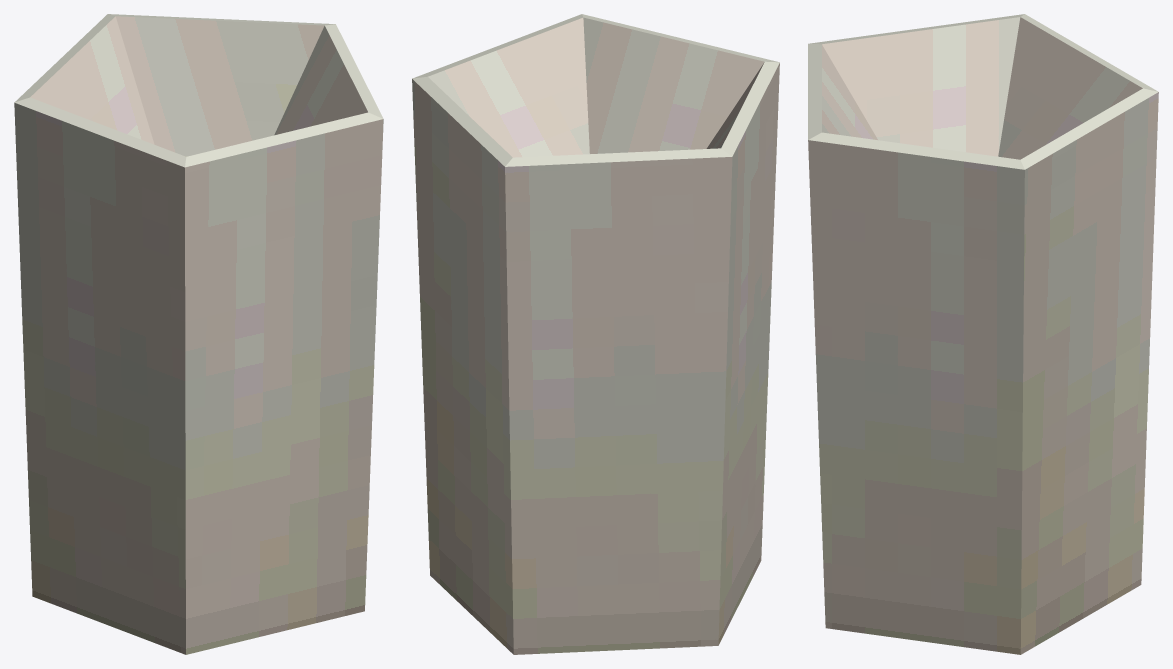
File: glass.fbx
The picture shows the model from 3 angles, left to right: view 1: azimuth 30°, elevation 25°; view 2: azimuth 150°, elevation 25°; view 3: azimuth 270°, elevation 25°; orthographic projection.
Parts seen in each view (by area): view 1: glass; view 2: glass; view 3: glass.
Part boxes in pixels (x1,y1,x2,y2): glass: (14, 14, 383, 654); glass: (412, 14, 779, 654); glass: (808, 14, 1158, 654).
Size of the model in its own units: 11.16 by 16.58 by 10.62.
1 material, 1 textured.
